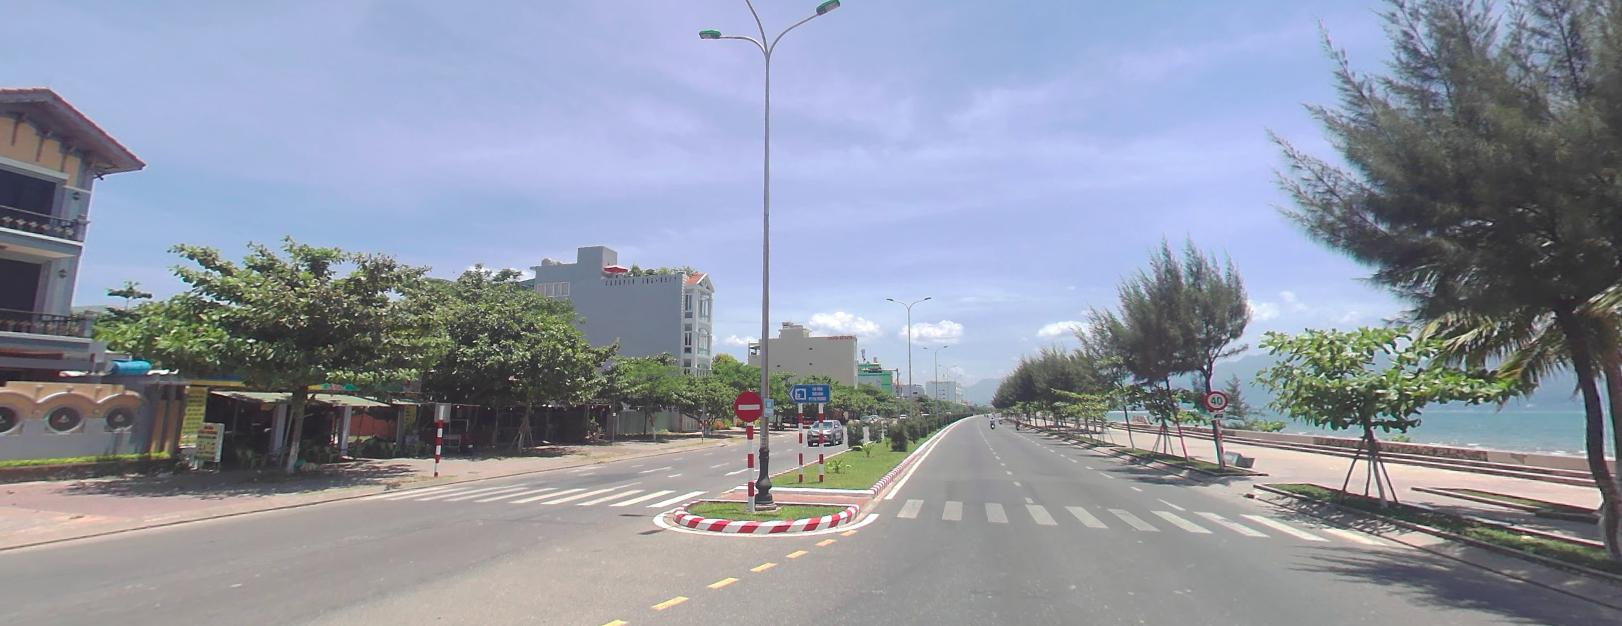Cam nguoc chieu: (732, 393, 760, 424)
Gioi han toc do: (1207, 387, 1230, 410)
